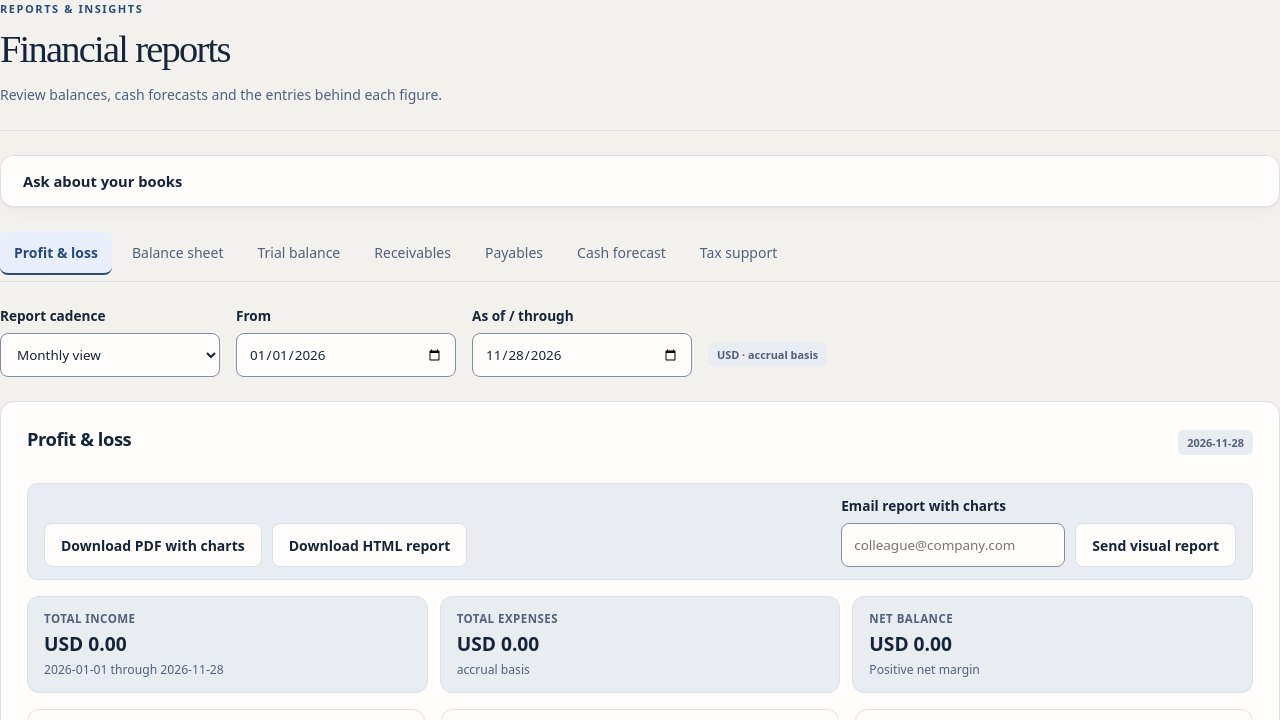
Phase 6 screen journeys with isolated API doubles › shows a projected cash shortfall after selecting the stress scenario
The width and height of the screenshot is (1280, 720).
Click the tab "Cash forecast" at (621, 253), box [563, 231, 680, 275]
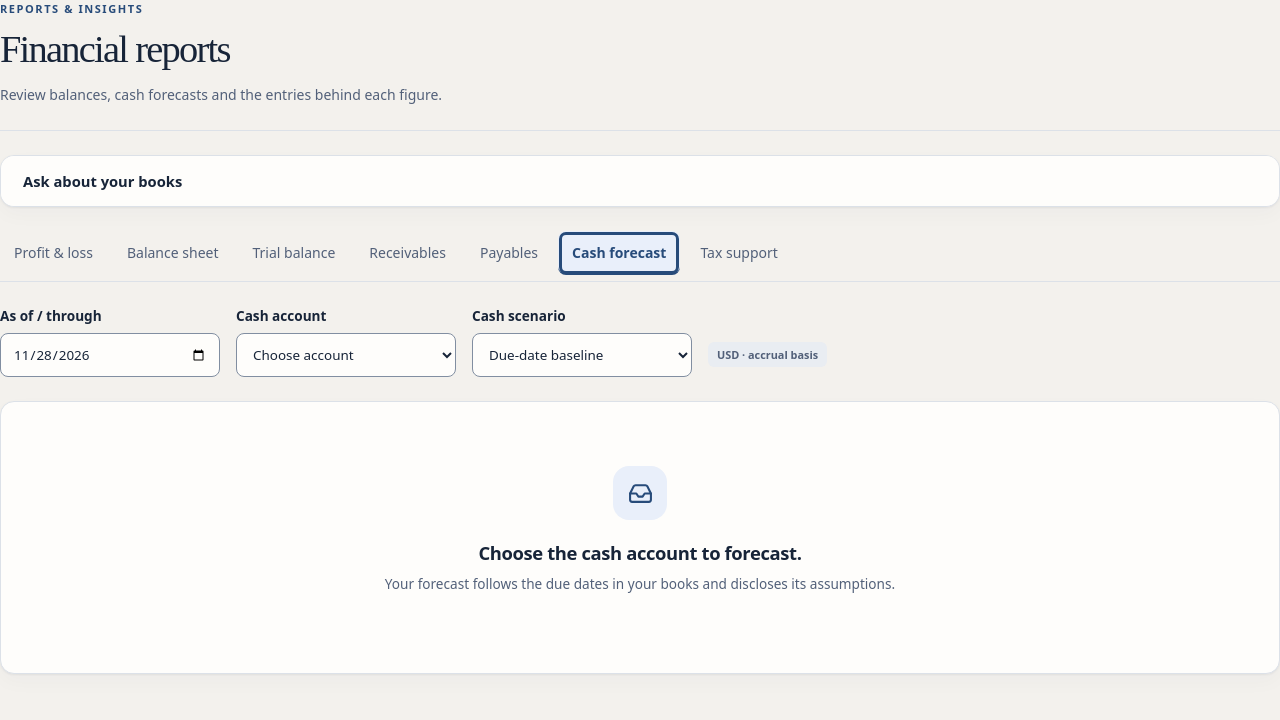
Select "Stress case · 75% receipts, 125% payments" in the dropdown labelled "Cash scenario" at (582, 355), box [472, 333, 692, 377]
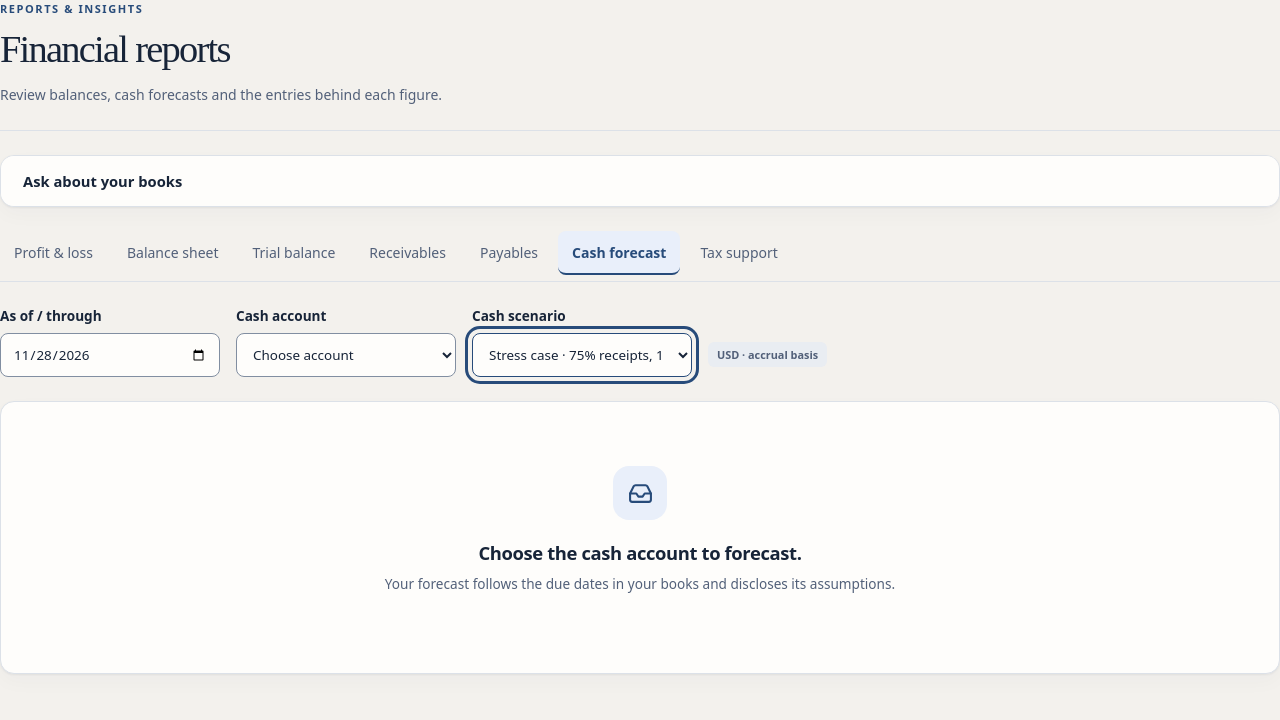
Select "Operating bank" in the dropdown labelled "Cash account" at (346, 355), box [236, 333, 456, 377]
(page scrolled)
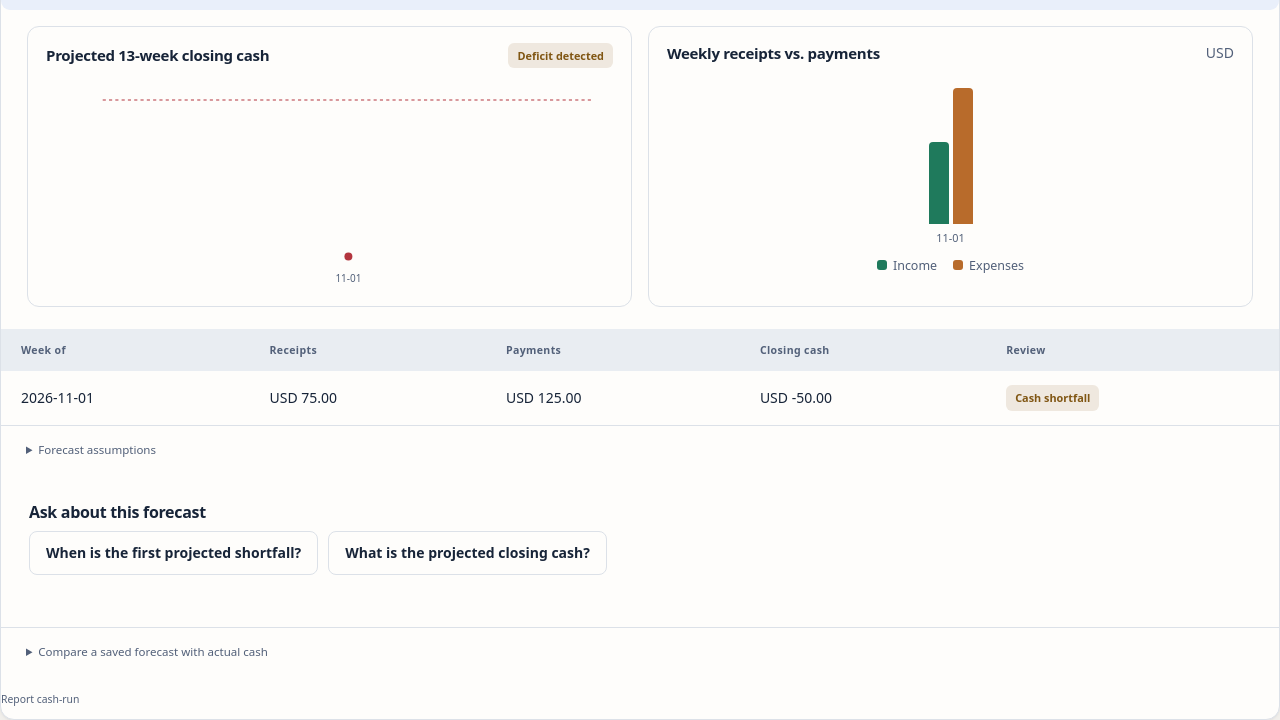
Click the button "When is the first projected shortfall?" at (174, 553), box [29, 531, 318, 575]
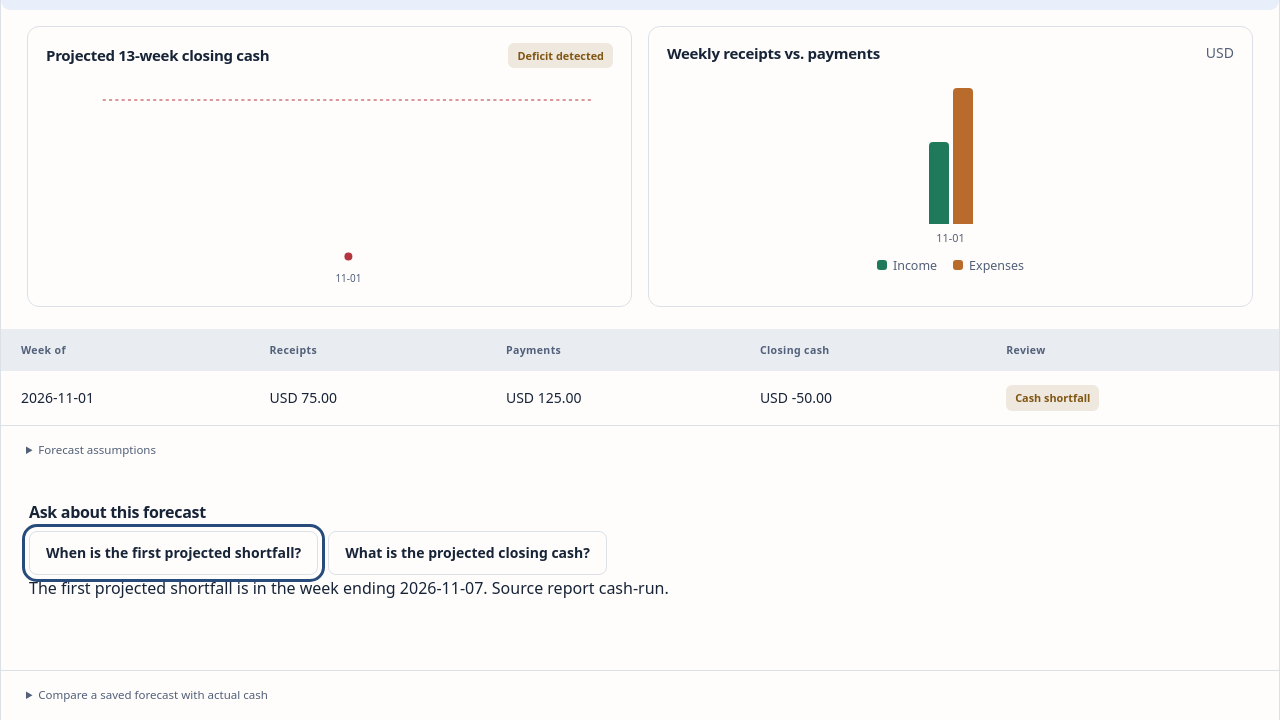
Check: the text "source report cash-run." is shown, box [29, 577, 669, 599]
